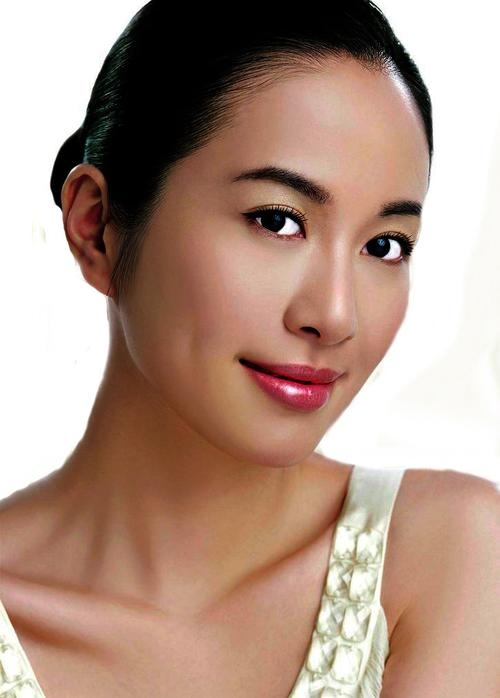no_mask: (121, 43, 433, 460)
